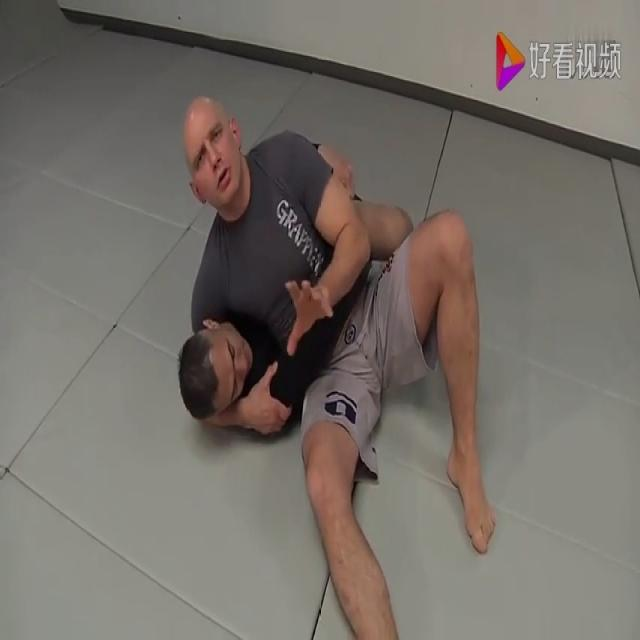fight: (175, 92, 497, 640)
